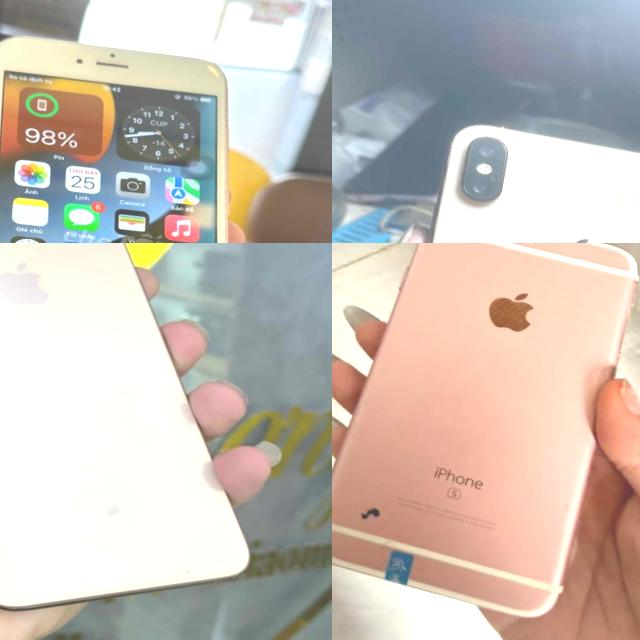scratch: (176, 556, 203, 586), (358, 503, 383, 523), (598, 354, 612, 382), (377, 536, 397, 552), (560, 501, 572, 514), (416, 248, 422, 256)
